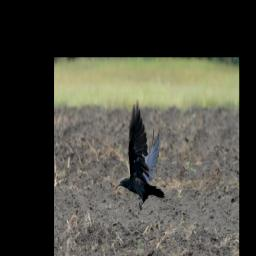Crow: (117, 98, 166, 212)
